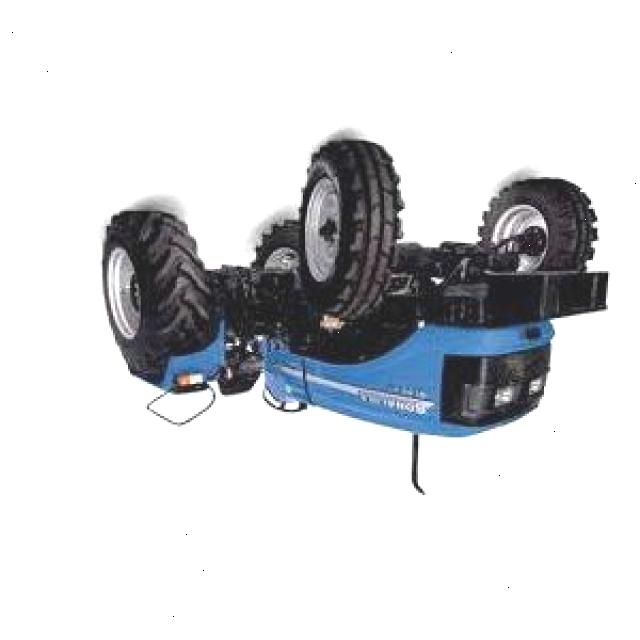Tratores - v5 YOLO V8L 2024-11-13: (87, 139, 610, 508)
